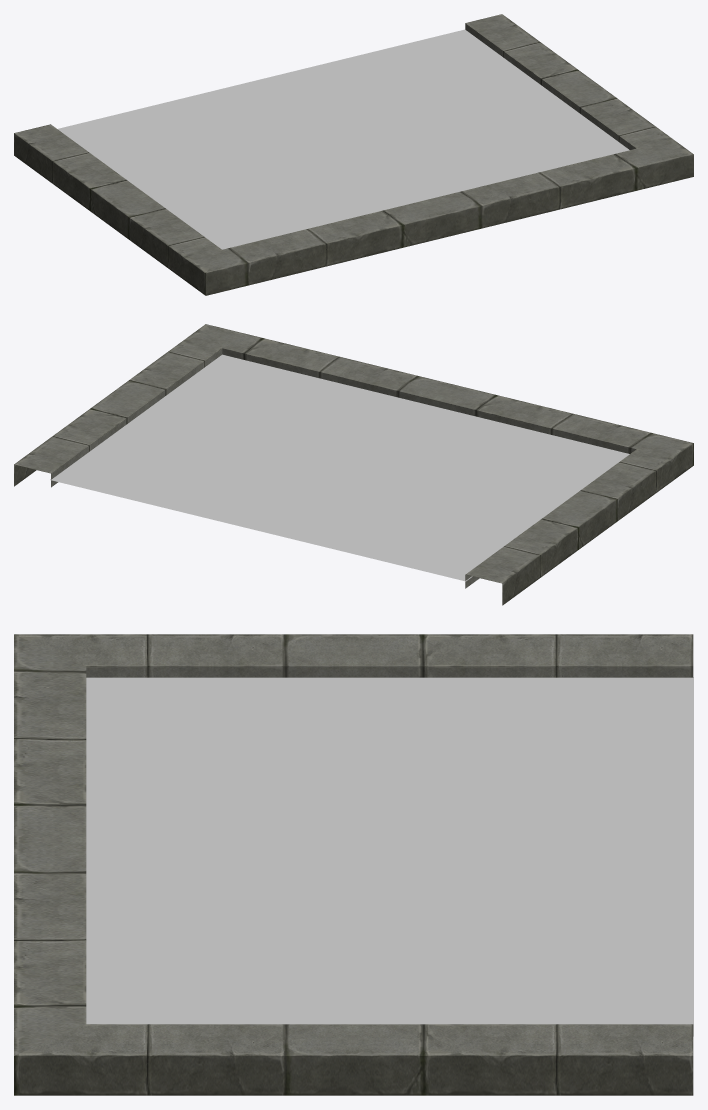
Rendered from JiaYeSi_ShiTiao_1.FBX.
3 renders of one model, top to bottom at view 1: azimuth 30°, elevation 25°; view 2: azimuth 150°, elevation 25°; view 3: azimuth 270°, elevation 25°, orthographic. The views are drawn at different scales.
Visible parts, largest first — view 1: JiaYeSi_ShiTiao_1b, JiaYeSi_ShiTiao_1a; view 2: JiaYeSi_ShiTiao_1b, JiaYeSi_ShiTiao_1a; view 3: JiaYeSi_ShiTiao_1b, JiaYeSi_ShiTiao_1a.
Boxes of the visible parts, x1,y1,x2,y2 form: JiaYeSi_ShiTiao_1b: (57, 29, 629, 249); JiaYeSi_ShiTiao_1a: (14, 14, 693, 295); JiaYeSi_ShiTiao_1b: (50, 354, 629, 581); JiaYeSi_ShiTiao_1a: (14, 324, 693, 605); JiaYeSi_ShiTiao_1b: (86, 677, 693, 1036); JiaYeSi_ShiTiao_1a: (14, 634, 693, 1095).
Size of the model in its own units: 918 by 40.25 by 626.
